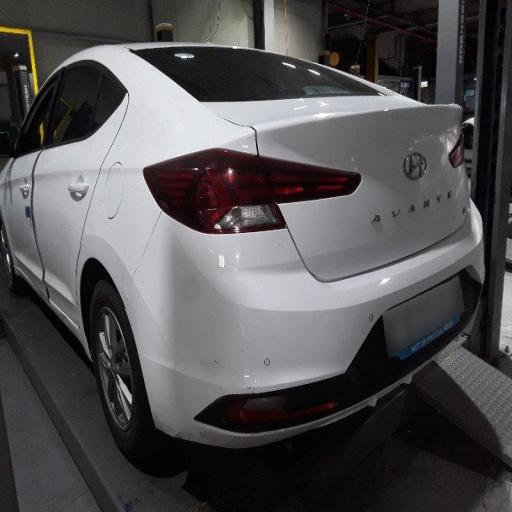normal: (11, 57, 490, 423)
